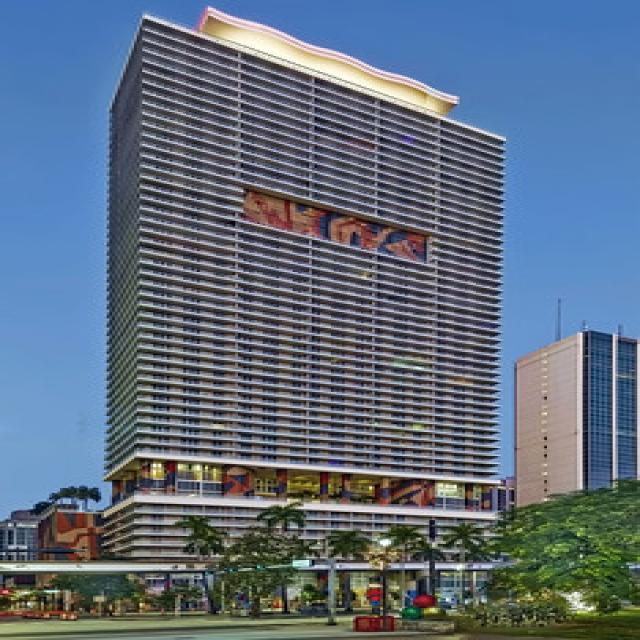building: (90, 2, 512, 568)
